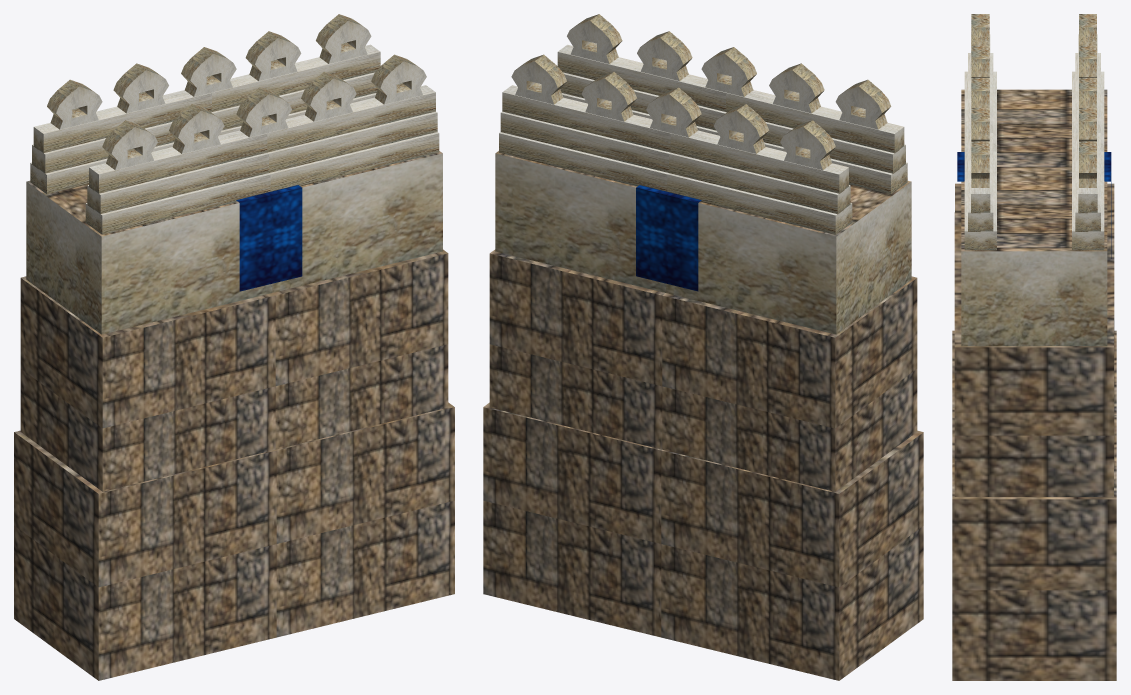
Rendered from wall_medium.dae.
3 views of the same model, side by side, from view 1: azimuth 30°, elevation 25°; view 2: azimuth 150°, elevation 25°; view 3: azimuth 270°, elevation 25° (orthographic). The views are drawn at different scales.
Visible parts, largest first — view 1: tami_wall_medium; view 2: tami_wall_medium; view 3: tami_wall_medium.
Part boxes in pixels (x1,y1,x2,y2): tami_wall_medium: [14, 14, 454, 680]; tami_wall_medium: [483, 14, 923, 680]; tami_wall_medium: [952, 14, 1116, 680].
Bounding box in the file's own units: 16.39 × 6.74 × 23.56.
